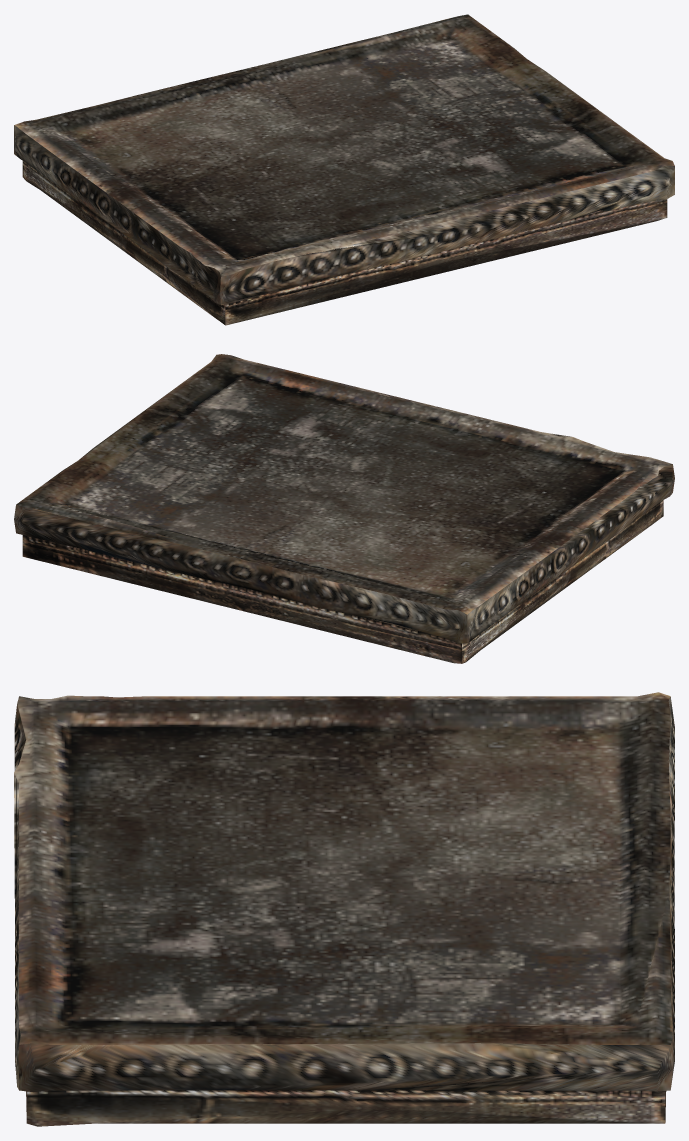
Rendered from TRP_Ruin Platform 01.FBX.
3 renders of one model, top to bottom at view 1: azimuth 30°, elevation 25°; view 2: azimuth 150°, elevation 25°; view 3: azimuth 270°, elevation 25°, orthographic. The views are drawn at different scales.
Visible parts, largest first — view 1: RTP-Ruined Platform_00; view 2: RTP-Ruined Platform_00; view 3: RTP-Ruined Platform_00.
Part boxes in pixels (x1,y1,x2,y2): RTP-Ruined Platform_00: (14,14,674,325); RTP-Ruined Platform_00: (14,354,674,663); RTP-Ruined Platform_00: (14,692,674,1126).
Size of the model in its own units: 104 by 82.28 by 12.14.
1 material, 1 textured.
